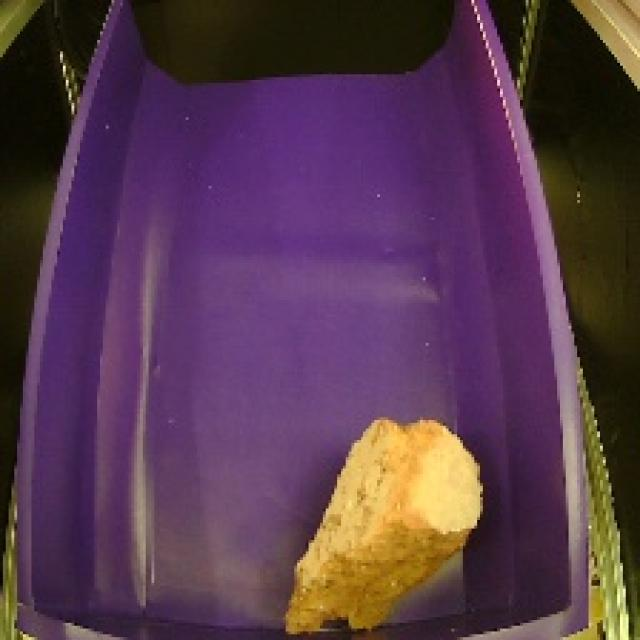brick: (275, 410, 496, 640)
